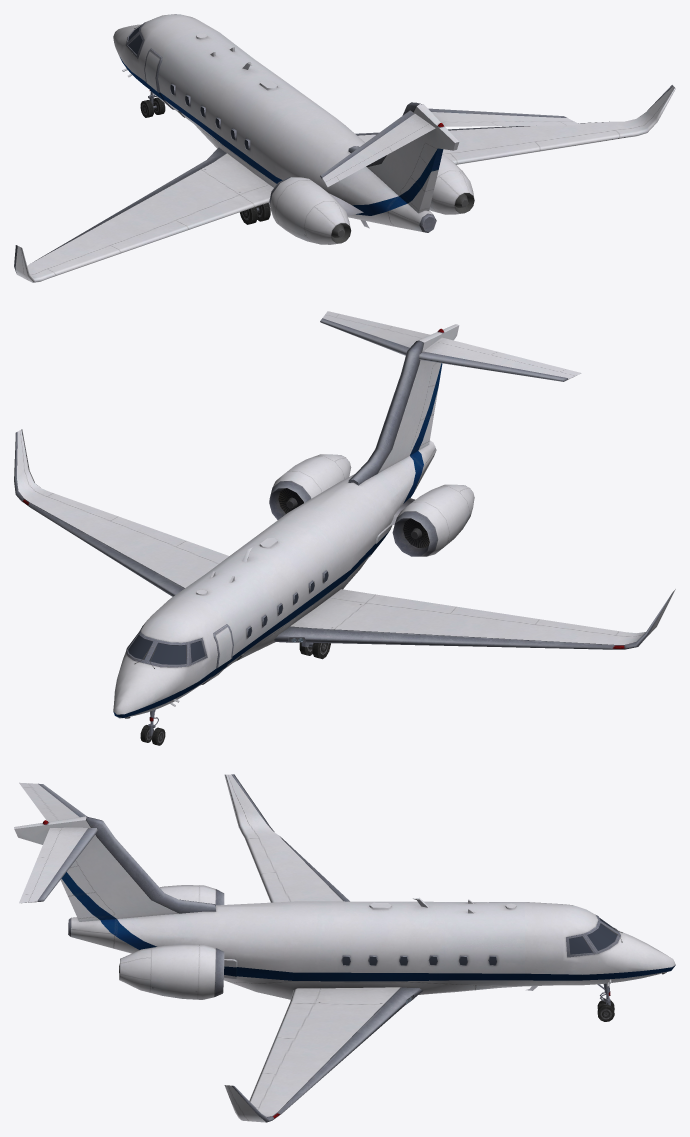
The model's file is Airplane_Private_With_Wheels.glb.
3 renders of one model, top to bottom at view 1: azimuth 30°, elevation 25°; view 2: azimuth 150°, elevation 25°; view 3: azimuth 270°, elevation 25°, orthographic. The views are drawn at different scales.
Parts seen in each view (by area): view 1: Airplane_Private_With_Wheels__LOD3; view 2: Airplane_Private_With_Wheels__LOD3; view 3: Airplane_Private_With_Wheels__LOD3.
Boxes of the visible parts, left/top/right/bottom form: Airplane_Private_With_Wheels__LOD3: left=14, top=14, right=675, bottom=282; Airplane_Private_With_Wheels__LOD3: left=14, top=311, right=675, bottom=745; Airplane_Private_With_Wheels__LOD3: left=14, top=774, right=675, bottom=1122.
Size of the model in its own units: 9.05 by 2.75 by 8.13.
Materials: 1 (1 with a texture image).
